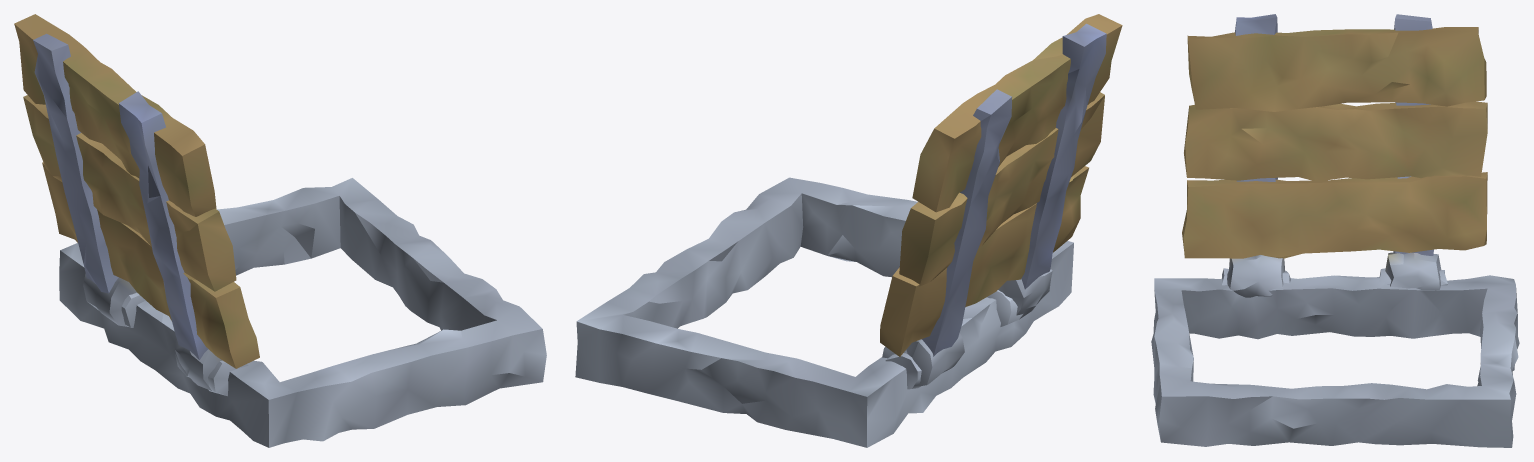
Rendered from Hatch02.fbx.
3 renders of one model, left to right at view 1: azimuth 30°, elevation 25°; view 2: azimuth 150°, elevation 25°; view 3: azimuth 270°, elevation 25°, orthographic. The views are drawn at different scales.
Visible parts, largest first — view 1: HatchFrame02, HatchDoor02; view 2: HatchFrame02, HatchDoor02; view 3: HatchDoor02, HatchFrame02.
Part boxes in pixels (x1,y1,x2,y2): HatchFrame02: (59,178,546,447); HatchDoor02: (14,14,259,390); HatchFrame02: (575,177,1073,447); HatchDoor02: (880,14,1122,386); HatchDoor02: (1182,14,1487,297); HatchFrame02: (1151,268,1519,447).
Bounding box in the file's own units: 123 × 105 × 122.
